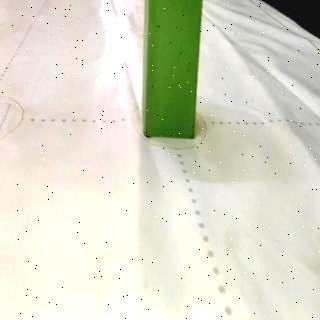greenbox: (142, 1, 202, 138)
